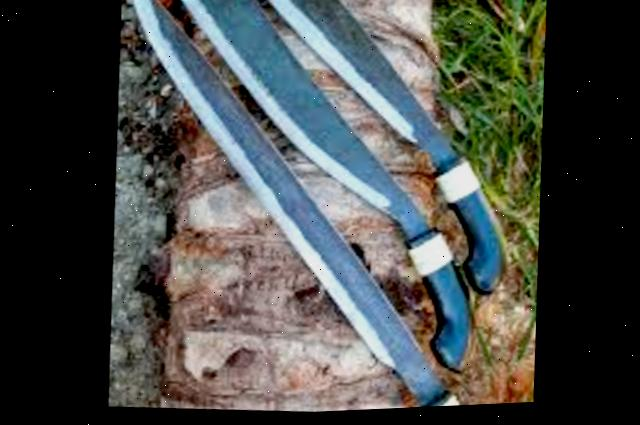long knife: (92, 0, 533, 422), (139, 0, 514, 394), (188, 0, 533, 314)
